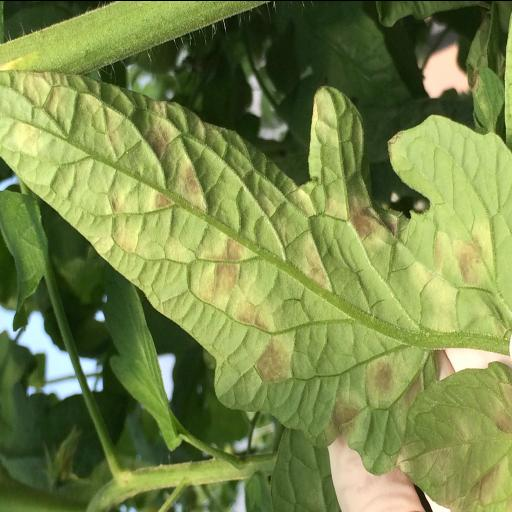disease_tomato: (0, 71, 512, 512)
